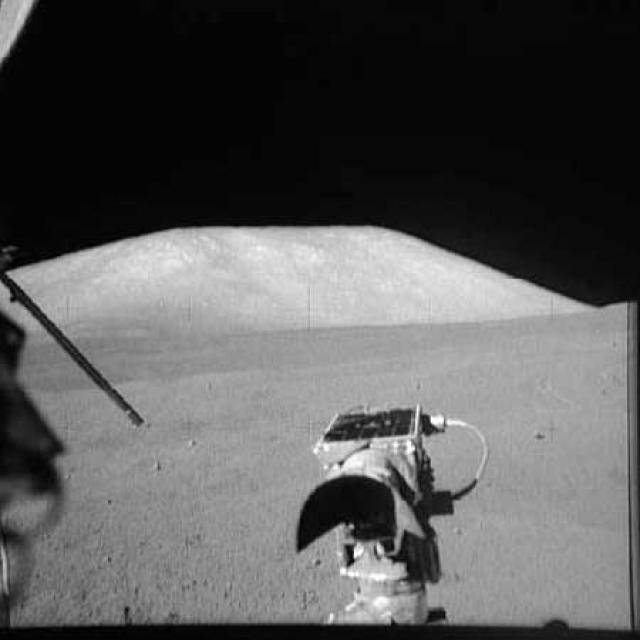artifact: (289, 400, 500, 628), (0, 239, 150, 436)
